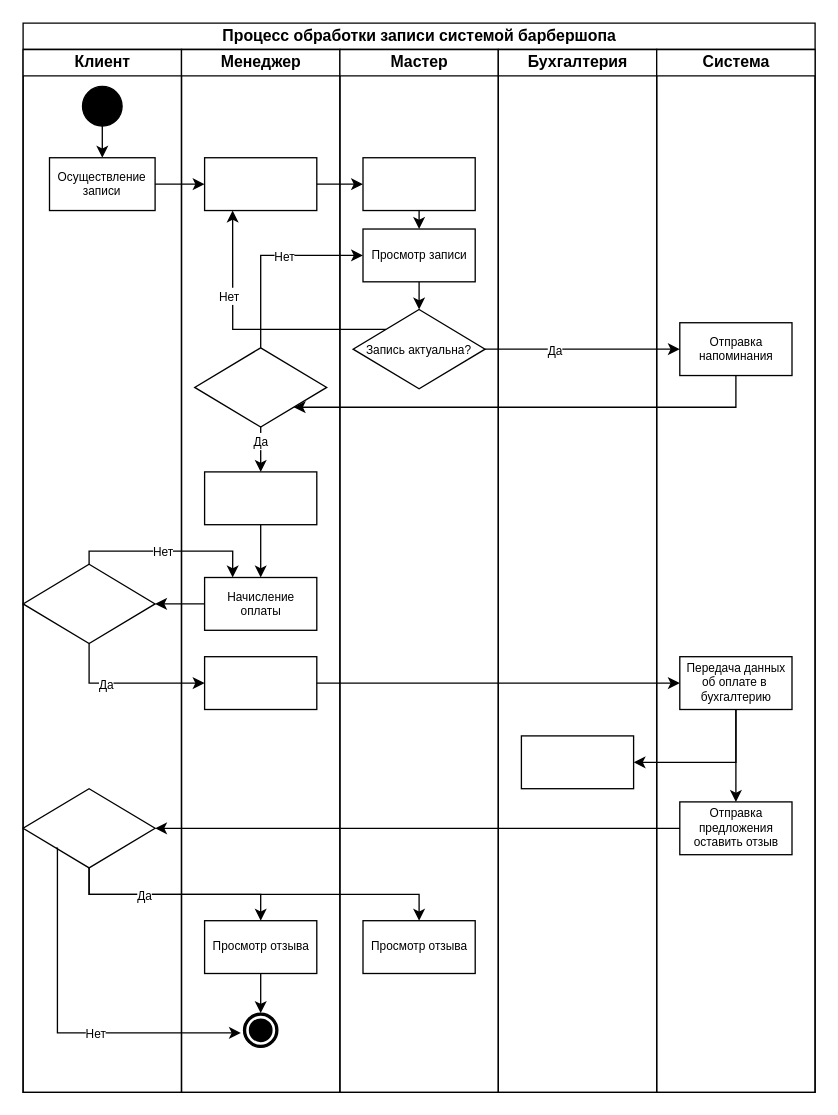
Some shapes in this 838 by 1115 pixel diagram are drawn without their labels. Each missing label, with the centre of its shape:
"Ведение расписания" goes at [260,183].
"Клиент написал отзыв?" goes at [88,827].
"Оплата произведена?" goes at [88,603].
"Прием данных об оплате" goes at [577,762].
"Прием оплаты" goes at [260,682].
"Просмотр расписания" goes at [418,183].
"Проставление отметки о выполнении" goes at [260,498].
"Услуга оказана?" goes at [260,386].
